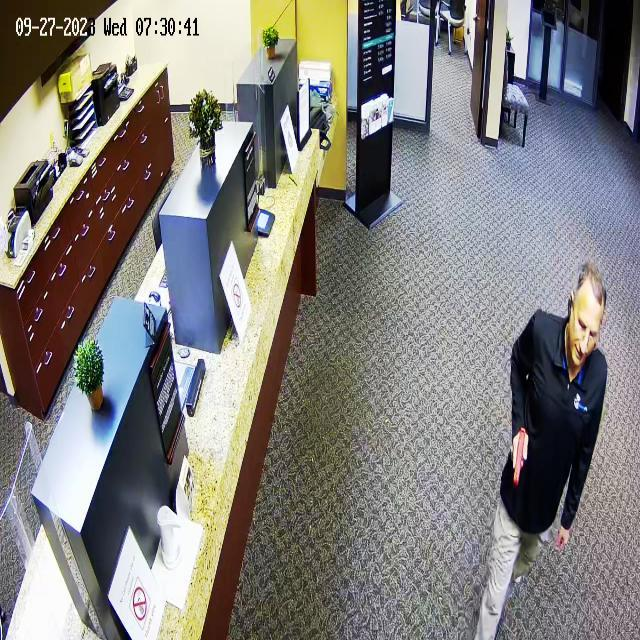Gun: (494, 427, 538, 491)
